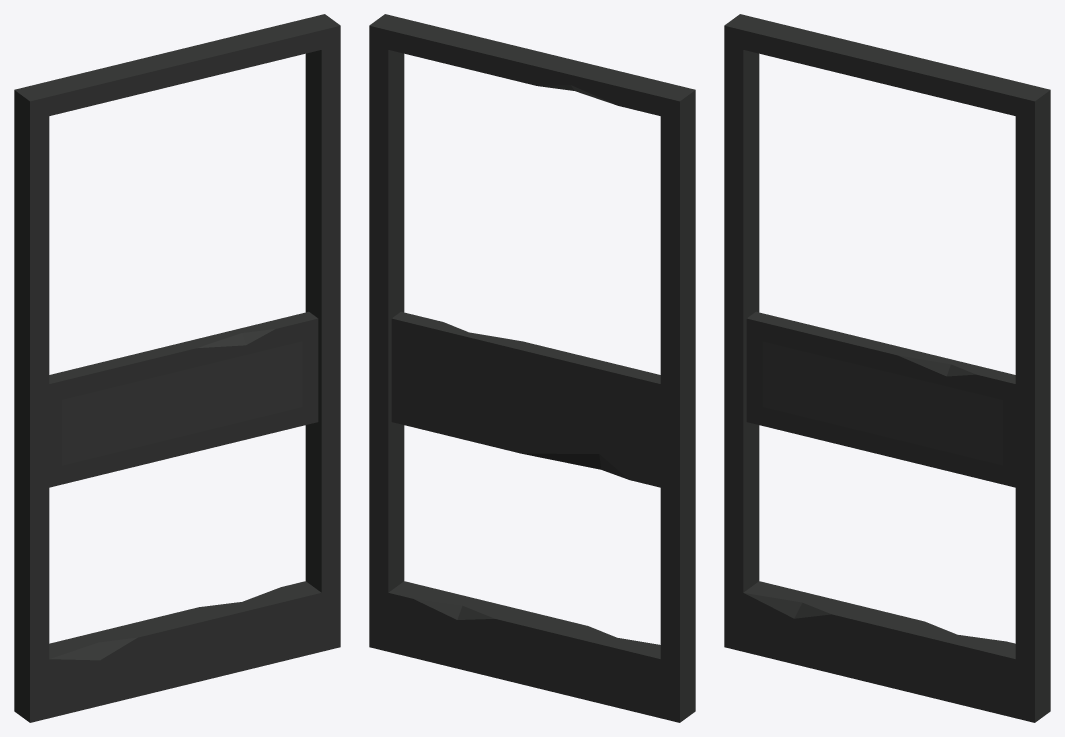
Rendered from SM_Bld_Door_07.obj.
3 renders of one model, left to right at view 1: azimuth 30°, elevation 25°; view 2: azimuth 150°, elevation 25°; view 3: azimuth 330°, elevation 25°, orthographic.
Visible parts, largest first — view 1: SM_Bld_Door_07_0; view 2: SM_Bld_Door_07_0; view 3: SM_Bld_Door_07_0.
Boxes of the visible parts, x1,y1,x2,y2 form: SM_Bld_Door_07_0: (14, 14, 340, 722); SM_Bld_Door_07_0: (369, 14, 695, 722); SM_Bld_Door_07_0: (724, 14, 1050, 722).
Size of the model in its own units: 1.18 by 2.25 by 0.1043.
Materials: 1 (1 with a texture image).
